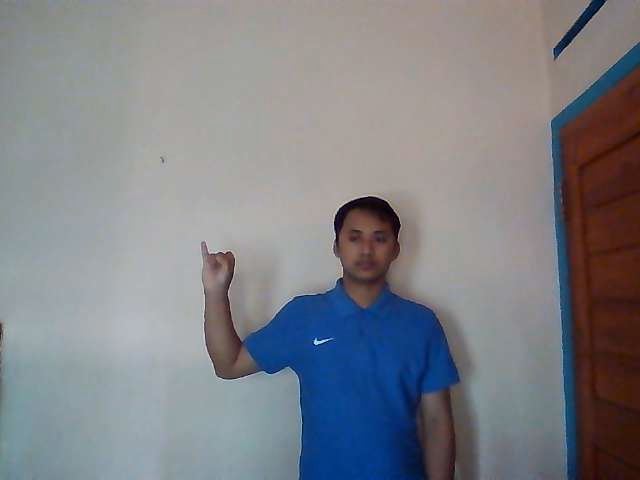I: (200, 239, 236, 292)
